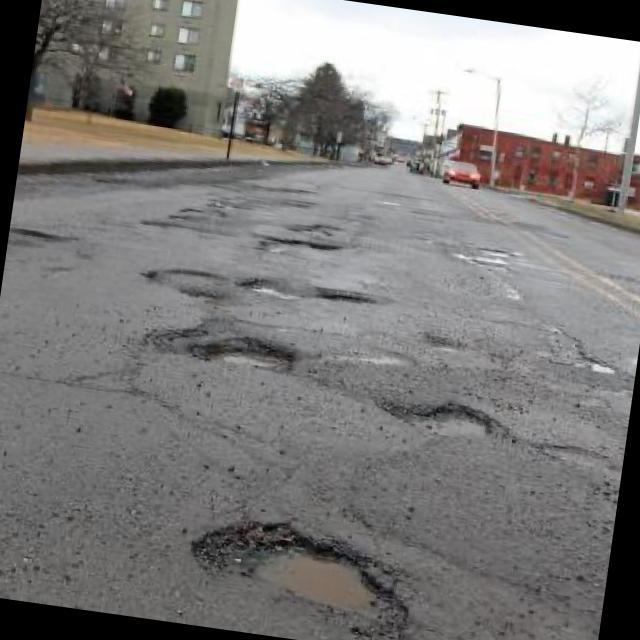Pothole: (163, 507, 411, 640), (113, 264, 388, 379), (24, 360, 147, 404), (389, 400, 510, 442), (46, 526, 122, 574), (10, 229, 94, 261)
